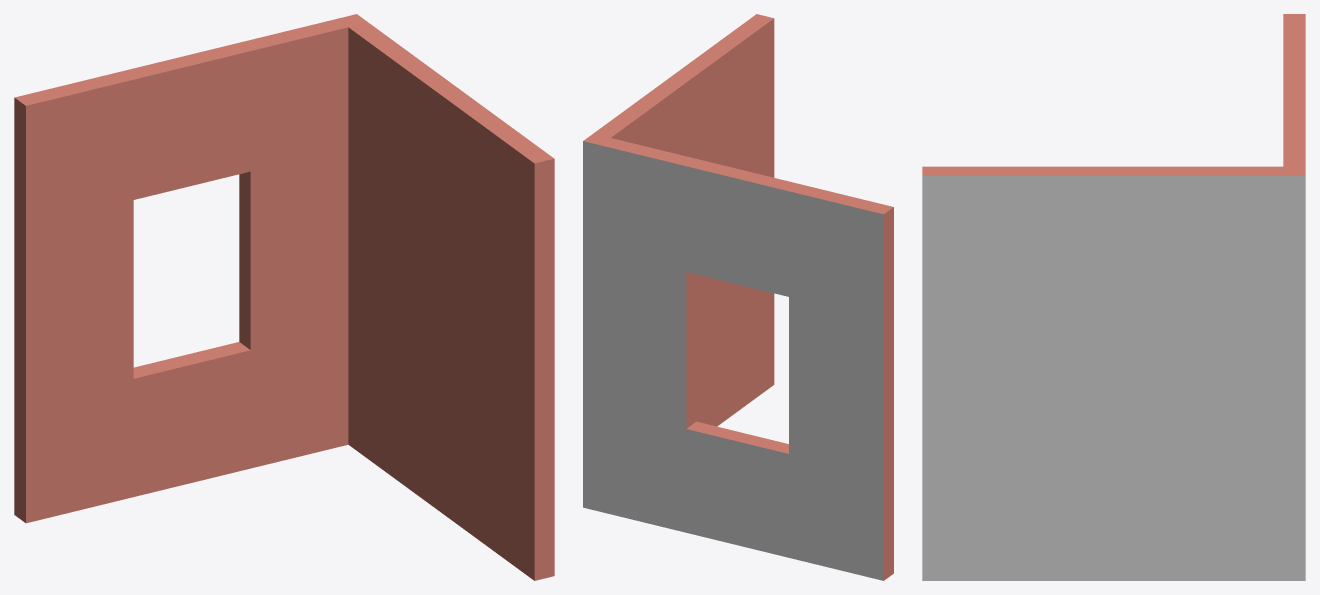
File: Wall1_C6_07.fbx
3 views of the same model, side by side, from view 1: azimuth 30°, elevation 25°; view 2: azimuth 150°, elevation 25°; view 3: azimuth 270°, elevation 25° (orthographic). The views are drawn at different scales.
Parts seen in each view (by area): view 1: Wall1_C6_07; view 2: Wall1_C6_07; view 3: Wall1_C6_07.
Boxes of the visible parts, box(x1,y1,x2,y2) form: Wall1_C6_07: box(14, 14, 554, 580); Wall1_C6_07: box(583, 14, 893, 580); Wall1_C6_07: box(922, 14, 1305, 580).
Size of the model in its own units: 258 by 300 by 258.
